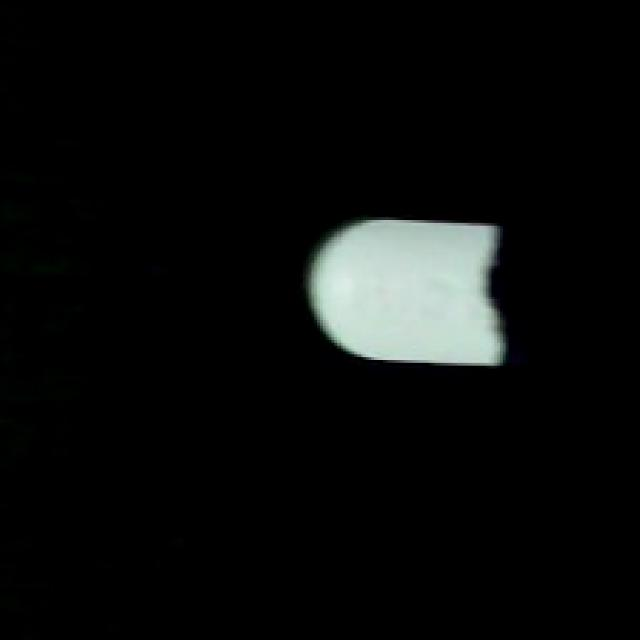defected: (303, 209, 511, 374)
